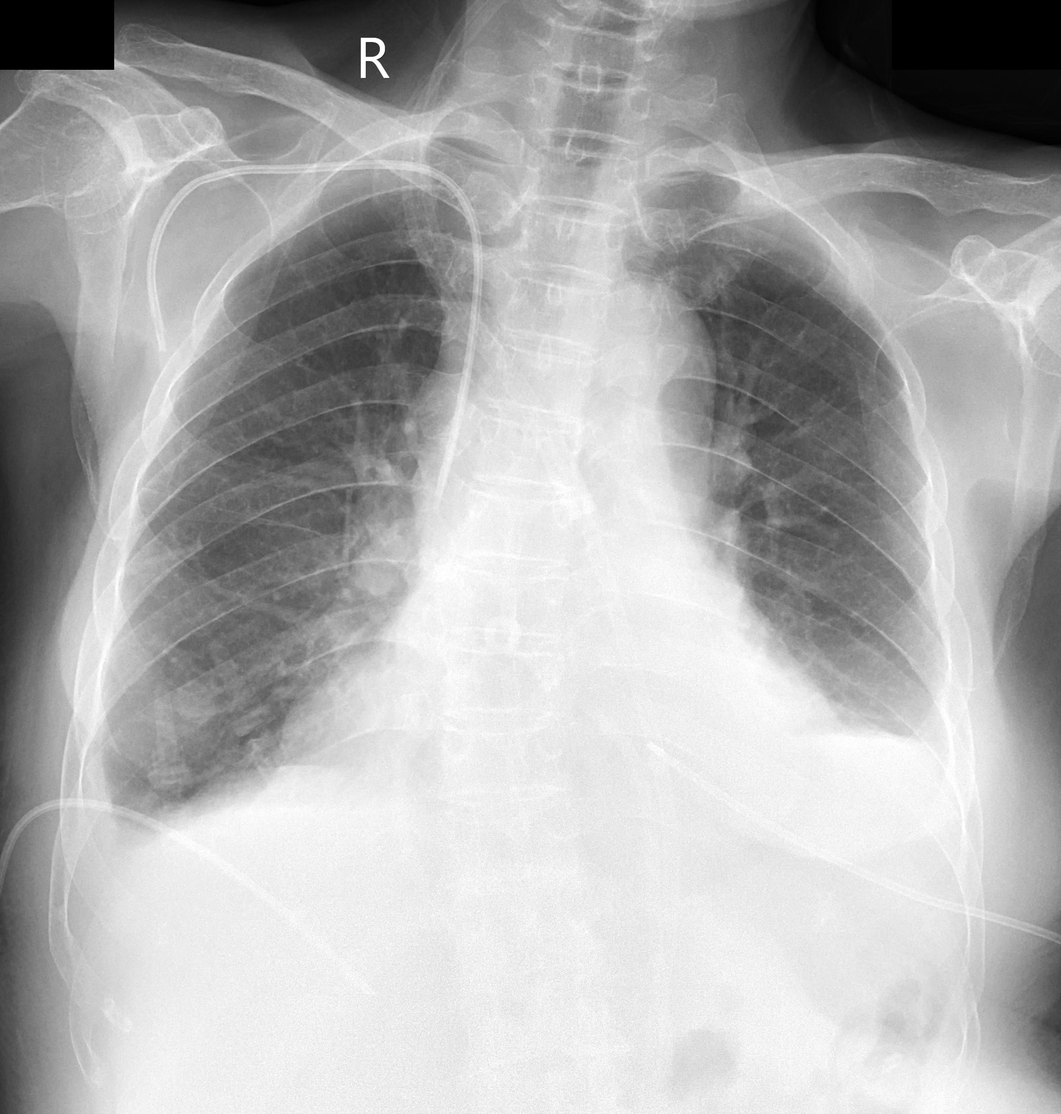Aortic enlargement: (557, 267, 721, 528)
Cardiomegaly: (282, 681, 880, 823)
